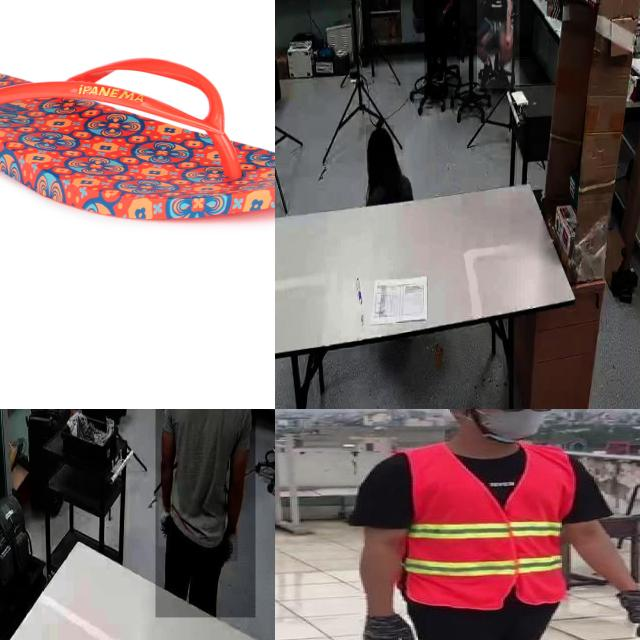Sandals: (0, 55, 275, 224)
hand_glove: (158, 498, 172, 548), (226, 528, 238, 562)
hand_noglove: (504, 30, 514, 54), (437, 8, 445, 26)
head_nohelmet: (366, 125, 394, 152)
person: (341, 409, 640, 640), (155, 409, 256, 618), (477, 0, 520, 89), (424, 0, 460, 100)
vest: (395, 445, 569, 608)
